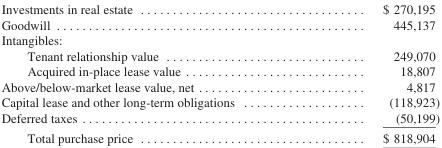table: (0, 1, 439, 145)
table column: (0, 1, 307, 145), (307, 1, 439, 145)
table projected row header: (0, 31, 439, 47)
table row: (0, 109, 439, 127), (0, 127, 439, 145), (0, 31, 439, 47), (0, 62, 439, 78), (0, 93, 439, 109), (0, 1, 439, 16), (0, 16, 439, 31), (0, 47, 439, 62), (0, 78, 439, 93)
